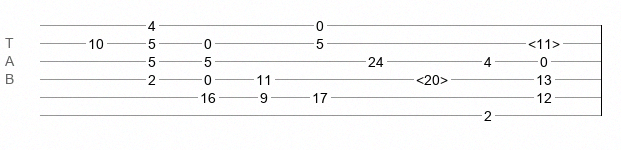0: (204, 72, 212, 82), (204, 36, 212, 46), (316, 18, 324, 28), (540, 54, 548, 64)
10: (88, 36, 104, 46)
11: (256, 72, 272, 82)
12: (536, 90, 552, 100)
13: (536, 72, 552, 82)
16: (200, 90, 216, 100)
17: (312, 90, 328, 100)
2: (148, 72, 156, 82), (484, 108, 492, 118)
24: (368, 54, 384, 64)
4: (148, 18, 156, 28), (484, 54, 492, 64)
5: (148, 36, 156, 46), (148, 54, 156, 64), (204, 54, 212, 64), (316, 36, 324, 46)
9: (260, 90, 268, 100)
harmonic: (416, 72, 448, 82), (528, 36, 560, 46)
